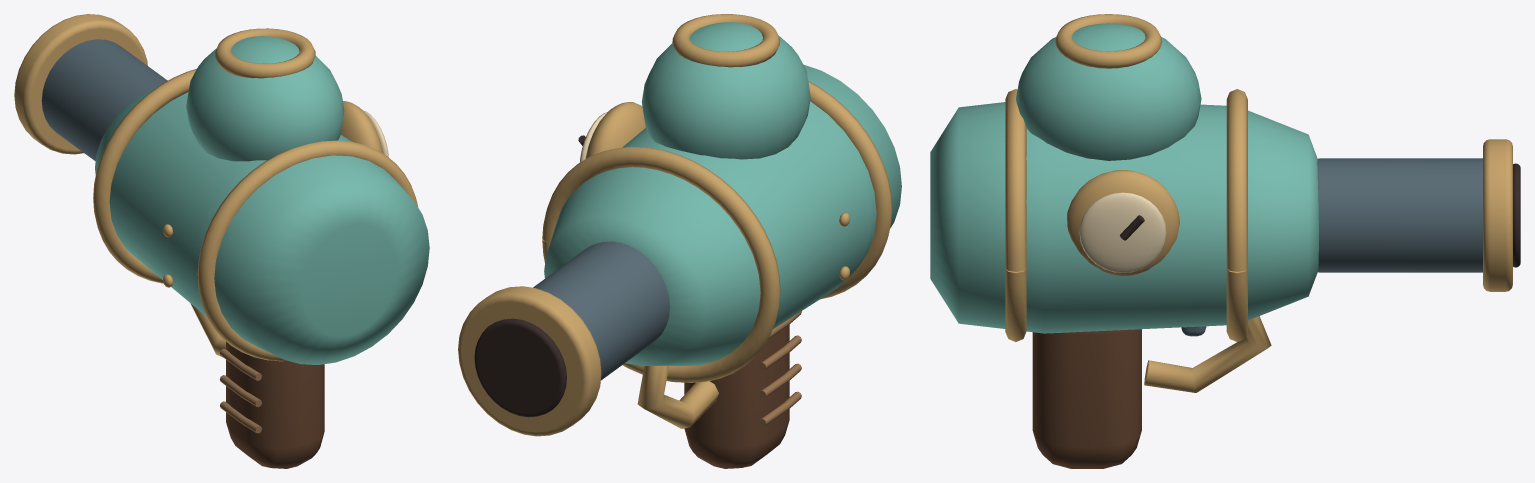
File: weapon_blaster_atelier.glb
3 views of the same model, side by side, from view 1: azimuth 30°, elevation 25°; view 2: azimuth 150°, elevation 25°; view 3: azimuth 270°, elevation 25° (orthographic). The views are drawn at different scales.
Parts seen in each view (by area): view 1: weapon_blaster_atelier__Painted_weapon_blaster_crafted_Glaze, weapon_blaster_atelier__Painted_weapon_blaster_crafted_Metal, weapon_blaster_atelier__TaggedPainted_weapon_blaster_crafted; view 2: weapon_blaster_atelier__Painted_weapon_blaster_crafted_Glaze, weapon_blaster_atelier__Painted_weapon_blaster_crafted_Metal, weapon_blaster_atelier__TaggedPainted_weapon_blaster_crafted; view 3: weapon_blaster_atelier__Painted_weapon_blaster_crafted_Glaze, weapon_blaster_atelier__Painted_weapon_blaster_crafted_Metal, weapon_blaster_atelier__TaggedPainted_weapon_blaster_crafted.
Part boxes in pixels (<box>): weapon_blaster_atelier__Painted_weapon_blaster_crafted_Glaze: <box>95,36,429,364</box>; weapon_blaster_atelier__Painted_weapon_blaster_crafted_Metal: <box>14,14,418,361</box>; weapon_blaster_atelier__TaggedPainted_weapon_blaster_crafted: <box>220,110,388,468</box>; weapon_blaster_atelier__Painted_weapon_blaster_crafted_Glaze: <box>544,22,901,366</box>; weapon_blaster_atelier__Painted_weapon_blaster_crafted_Metal: <box>458,14,892,436</box>; weapon_blaster_atelier__TaggedPainted_weapon_blaster_crafted: <box>474,112,801,468</box>; weapon_blaster_atelier__Painted_weapon_blaster_crafted_Glaze: <box>930,23,1318,333</box>; weapon_blaster_atelier__Painted_weapon_blaster_crafted_Metal: <box>1005,14,1512,392</box>; weapon_blaster_atelier__TaggedPainted_weapon_blaster_crafted: <box>1032,163,1520,468</box>.
Size of the model in its own units: 0.399 by 0.667 by 0.827.
